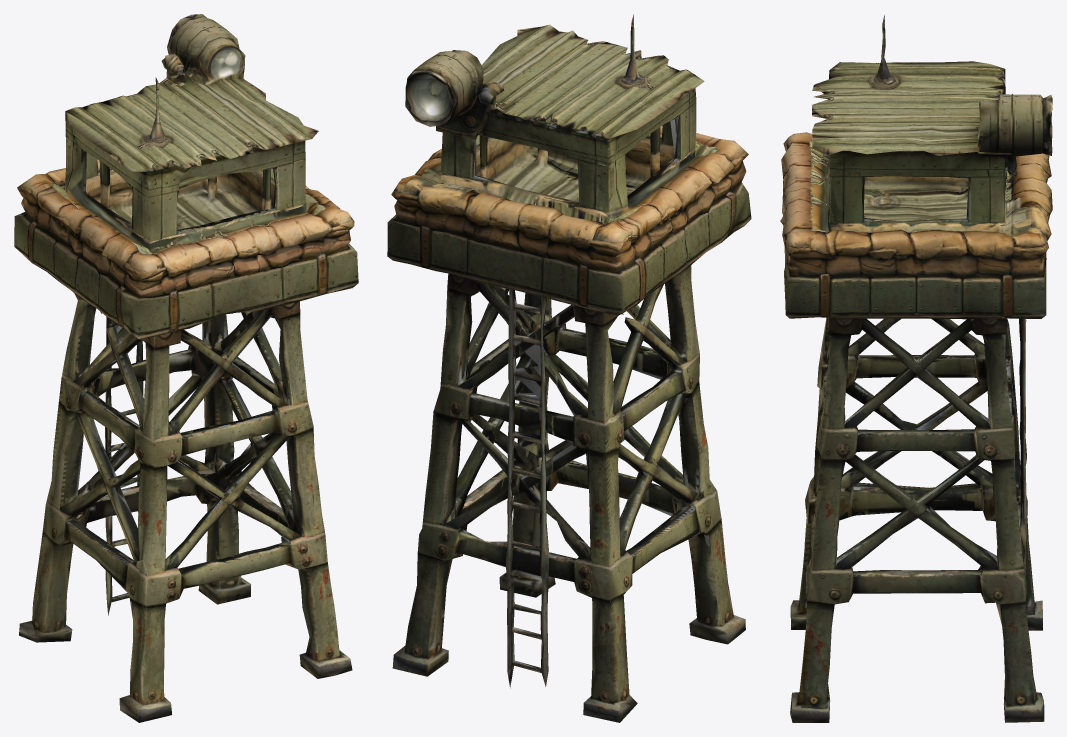
The model's file is EX_Mil_Watchtower.fbx.
3 views of the same model, side by side, from view 1: azimuth 30°, elevation 25°; view 2: azimuth 150°, elevation 25°; view 3: azimuth 270°, elevation 25° (orthographic). The views are drawn at different scales.
Visible parts, largest first — view 1: texture_mapping; view 2: texture_mapping; view 3: texture_mapping.
Boxes of the visible parts, left/top/right/bottom form: texture_mapping: left=14, top=14, right=358, bottom=722; texture_mapping: left=387, top=14, right=751, bottom=722; texture_mapping: left=780, top=15, right=1052, bottom=722.
Bounding box in the file's own units: 0.3799 × 0.3772 × 0.9656.
Materials: 1 (1 with a texture image).
